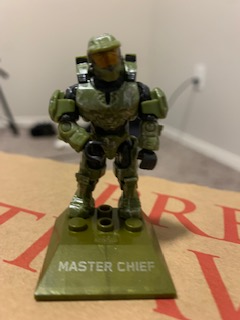chief: (44, 32, 172, 217)
spartan: (42, 30, 170, 215)
